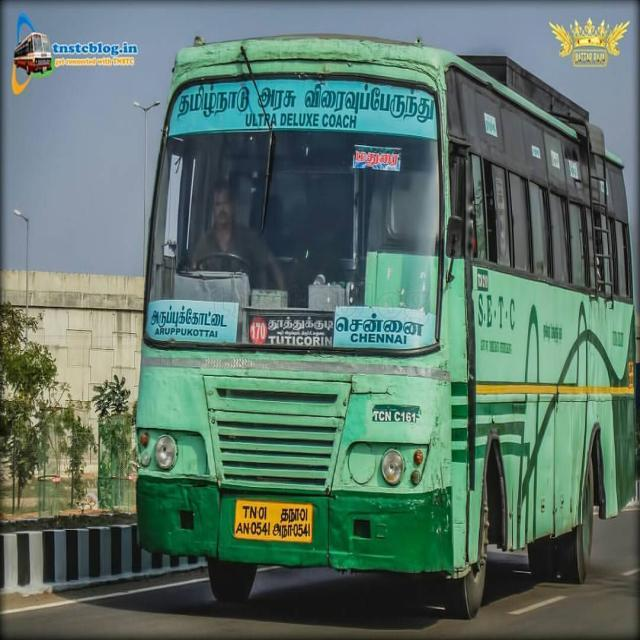Bus: (130, 25, 639, 620)
